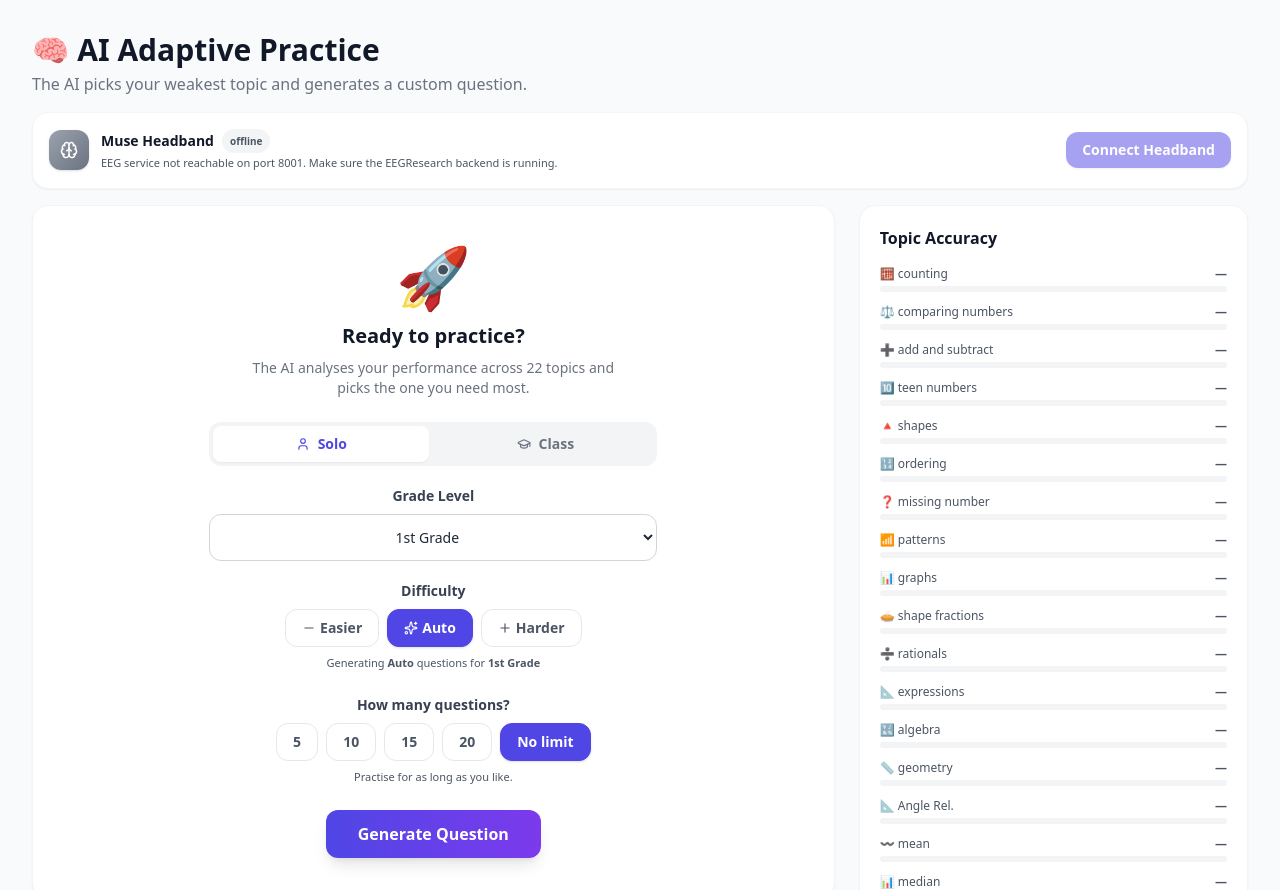
Test: counts an answer only once it has been recorded
This screenshot has width=1280, height=890.
Step 1. Click the button "Generate Question" → (433, 834), box left=326, top=810, right=541, bottom=858
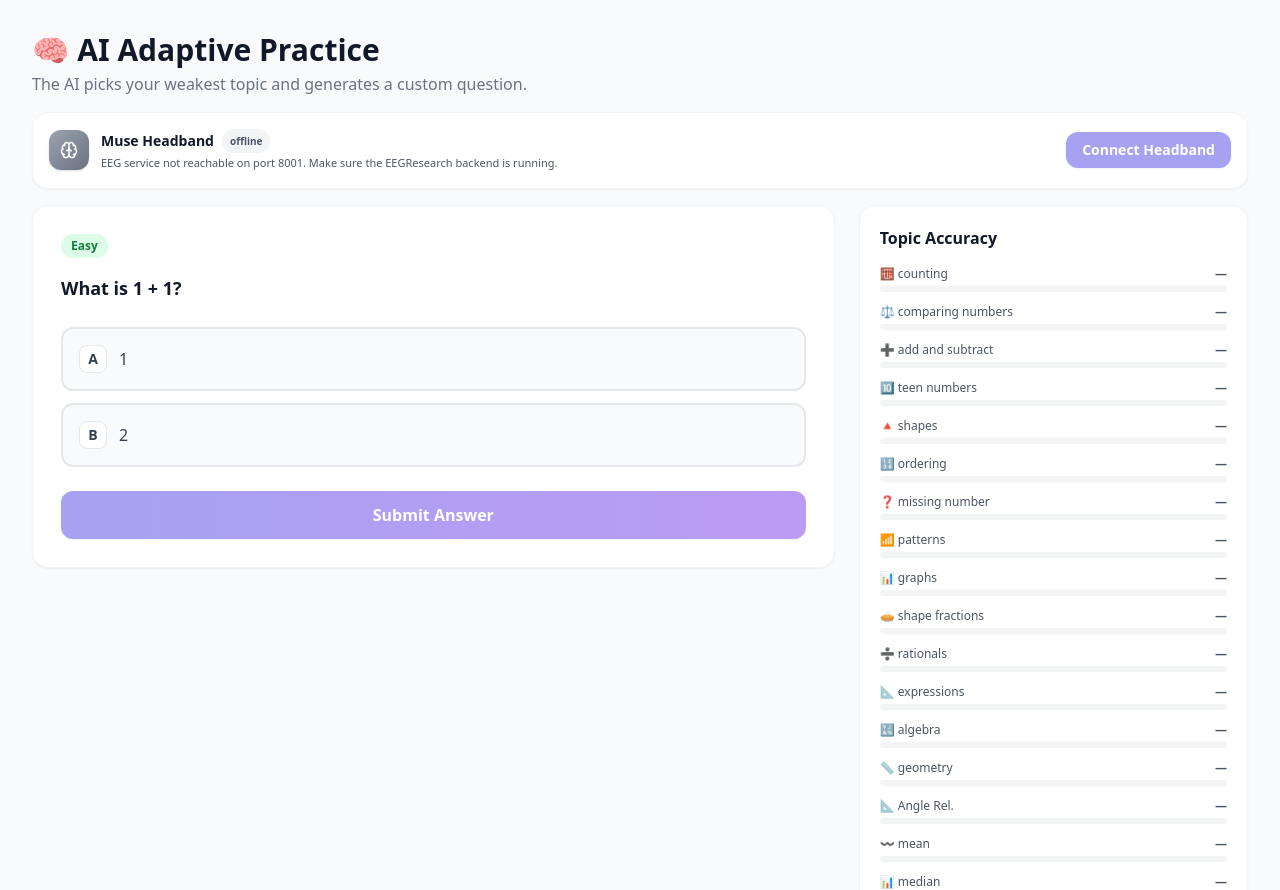
Step 2. Click the button "B 2" → (93, 435), box left=61, top=403, right=806, bottom=467
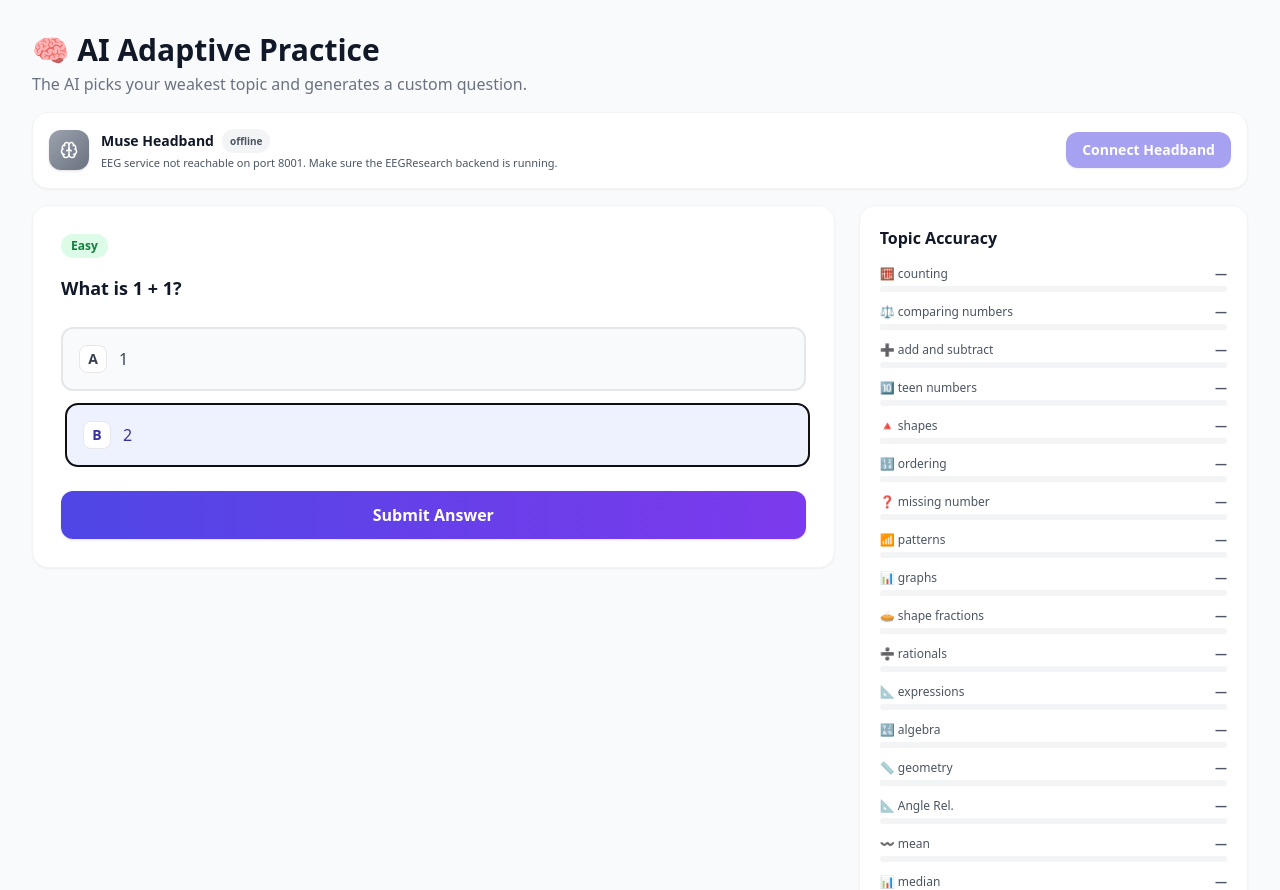
Step 3. Click the button "Submit Answer" → (433, 515), box left=61, top=491, right=806, bottom=539
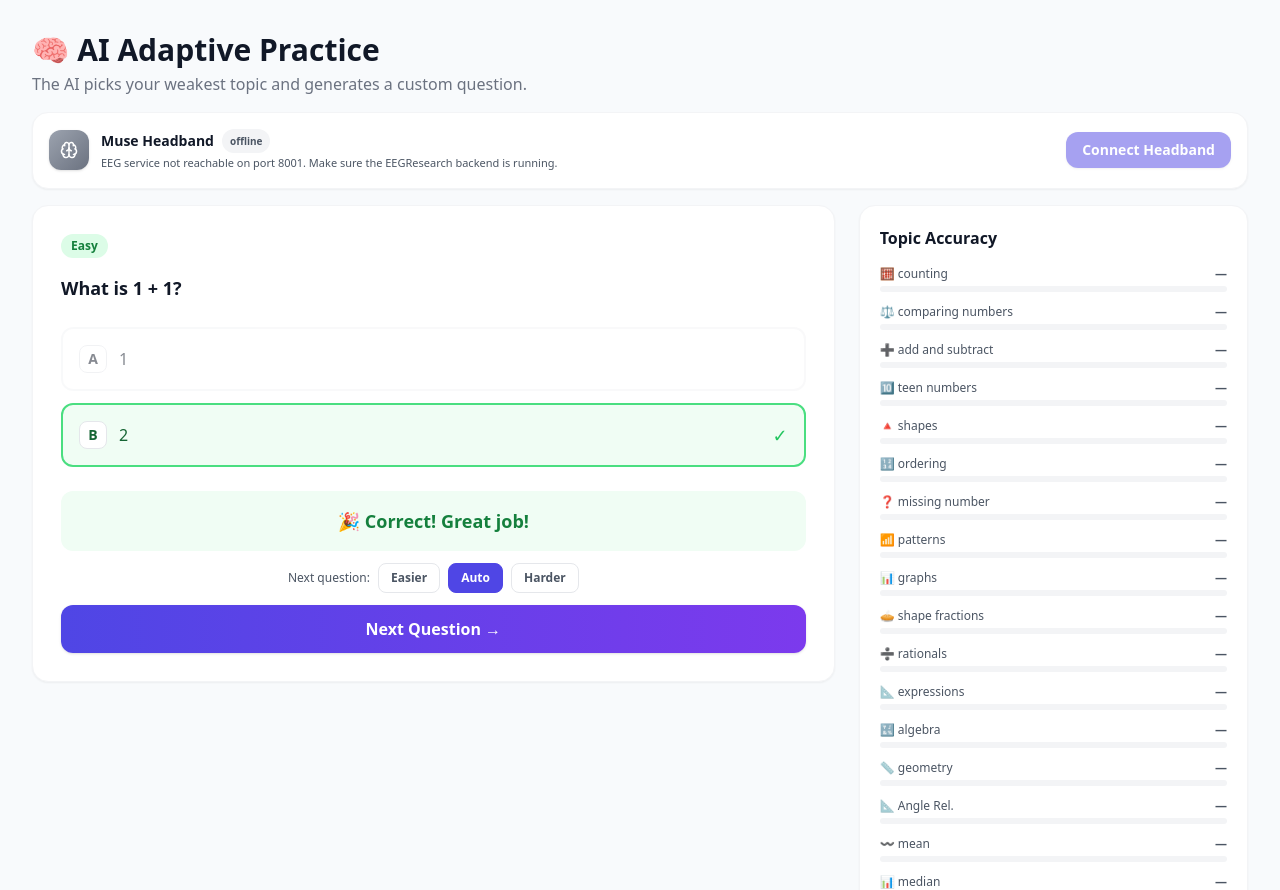
Expected: the text "answered" is not shown
Now the button "Next Question →" is shown
Step 4. Click the button "Next Question →" → (433, 629), box left=61, top=605, right=806, bottom=653
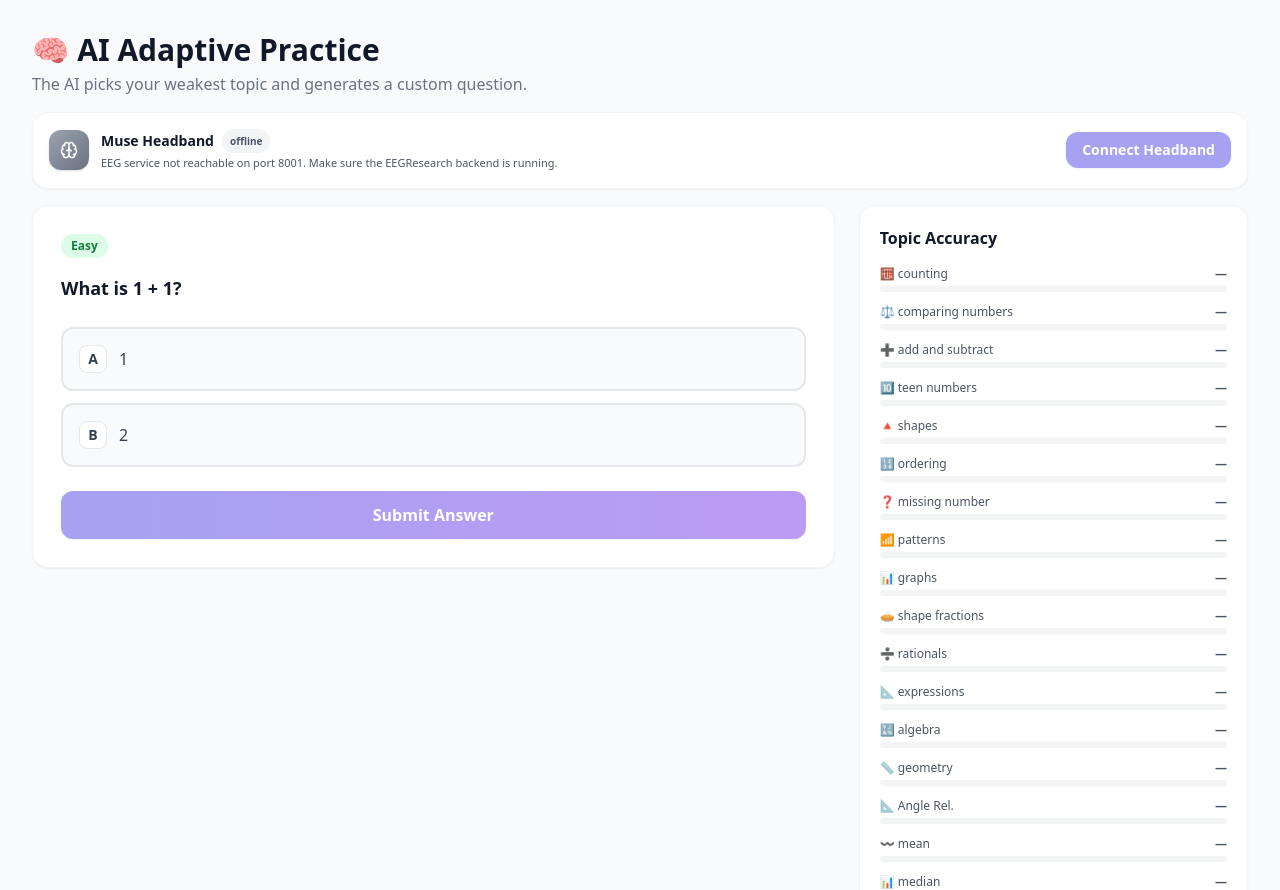
Step 5. Click the button "B 2" → (93, 435), box left=61, top=403, right=806, bottom=467
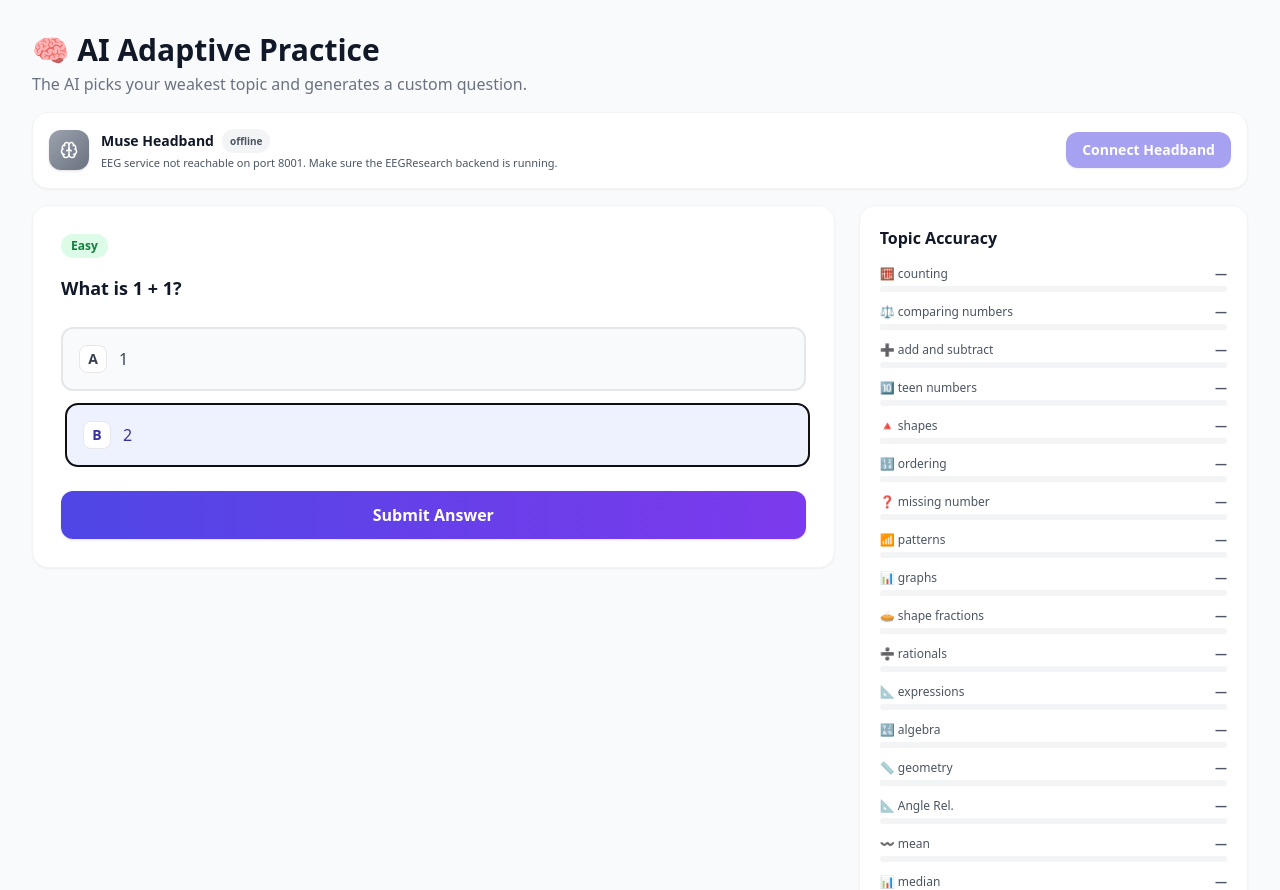
Step 6. Click the button "Submit Answer" → (433, 515), box left=61, top=491, right=806, bottom=539
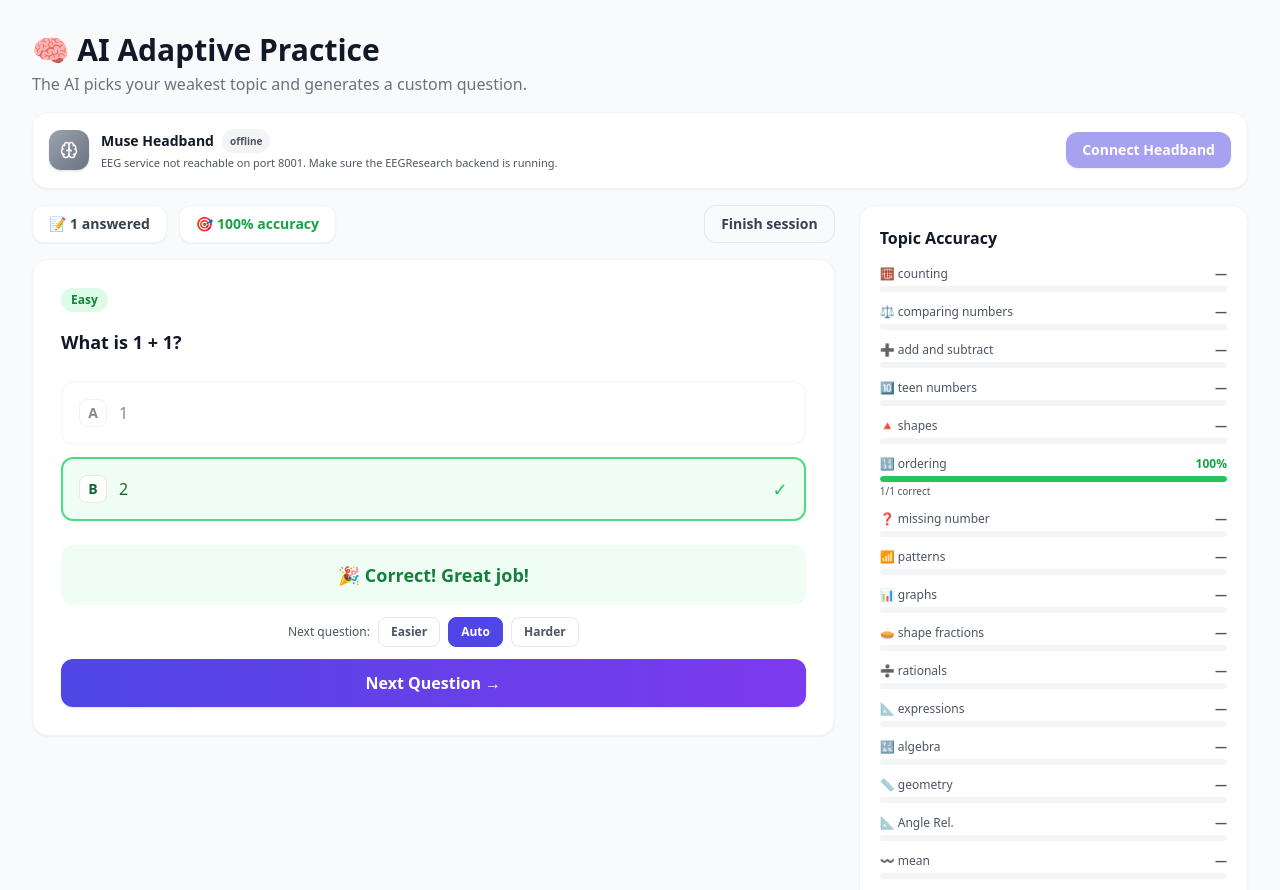
Now the text "📝 1 answered" is shown, box left=49, top=214, right=150, bottom=234
